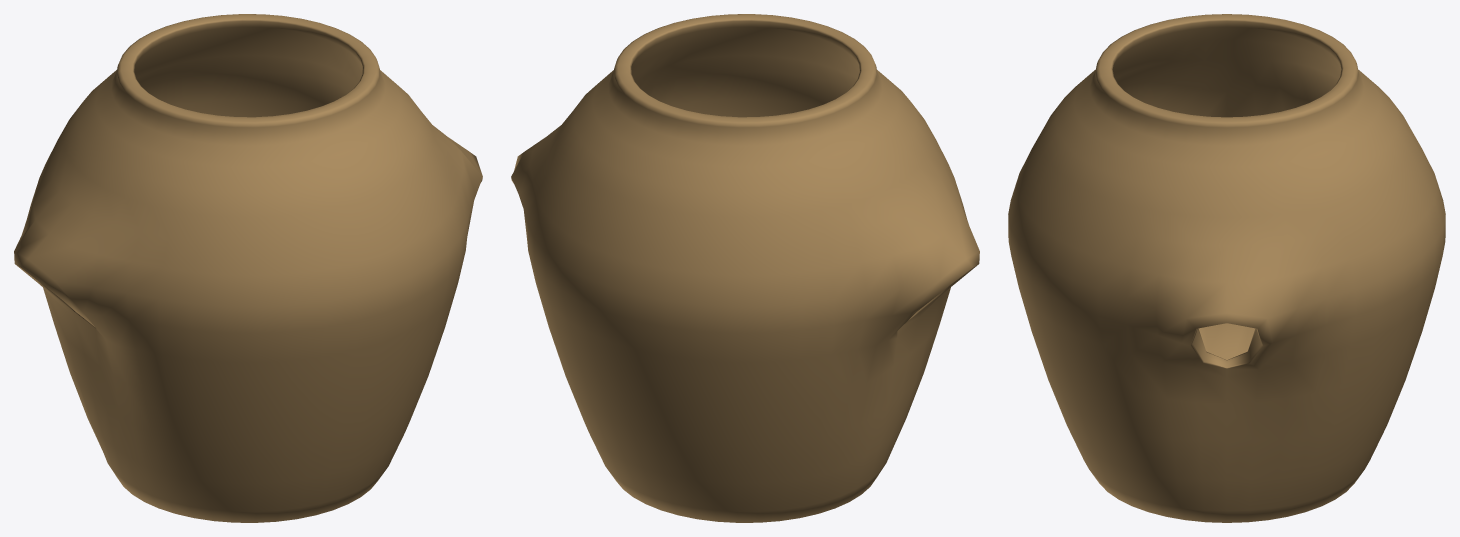
Rendered from Vase_Moyen.fbx.
3 renders of one model, left to right at view 1: azimuth 30°, elevation 25°; view 2: azimuth 150°, elevation 25°; view 3: azimuth 270°, elevation 25°, orthographic.
Visible parts, largest first — view 1: pCylinder3; view 2: pCylinder3; view 3: pCylinder3.
Part boxes in pixels (x1,y1,x2,y2): pCylinder3: (14,14,482,522); pCylinder3: (511,14,979,522); pCylinder3: (1008,14,1445,522).
Size of the model in its own units: 28.41 by 24.15 by 23.65.
